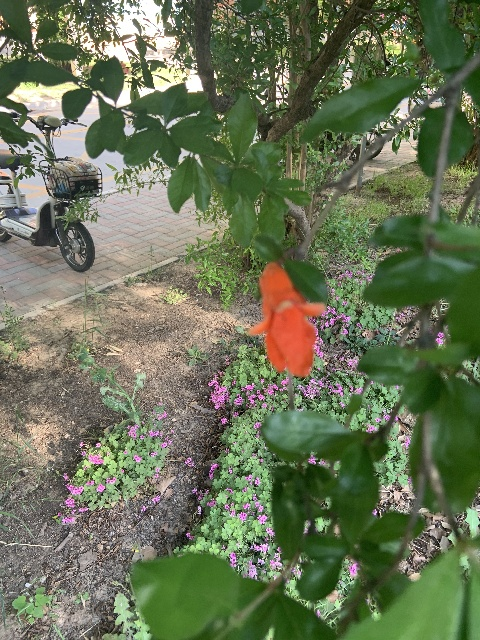flower: (247, 261, 324, 377)
